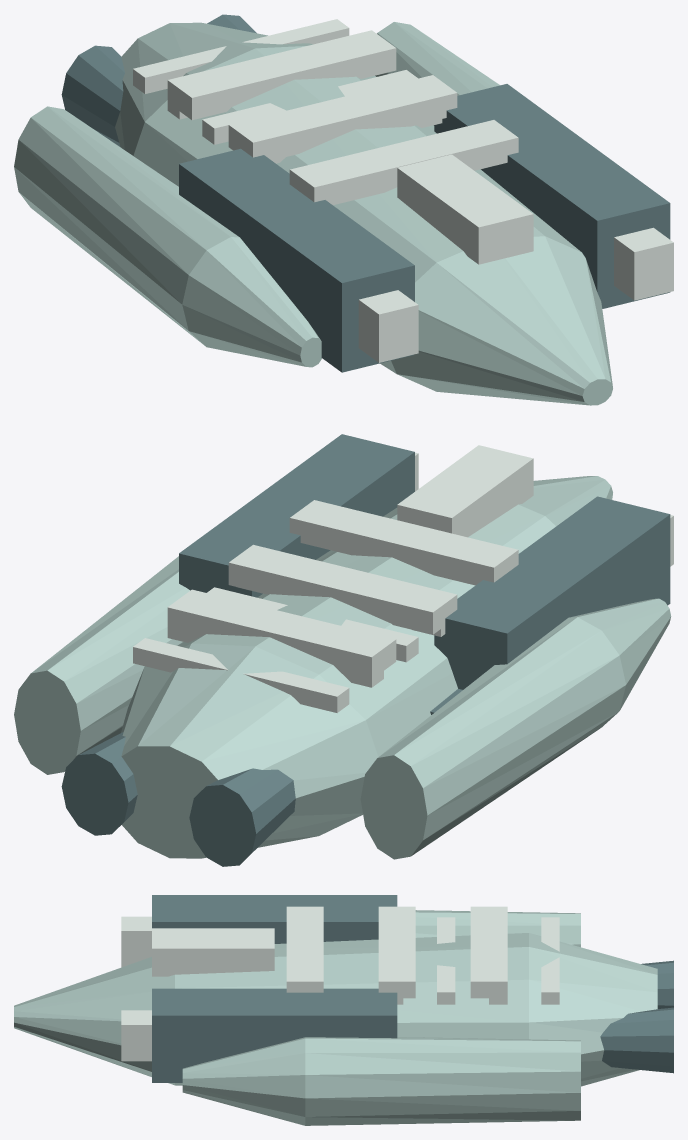
The picture shows the model from 3 angles, top to bottom: view 1: azimuth 30°, elevation 25°; view 2: azimuth 150°, elevation 25°; view 3: azimuth 270°, elevation 25°; orthographic projection. The views are drawn at different scales.
Size of the model in its own units: 2.72 by 1.16 by 4.65.
